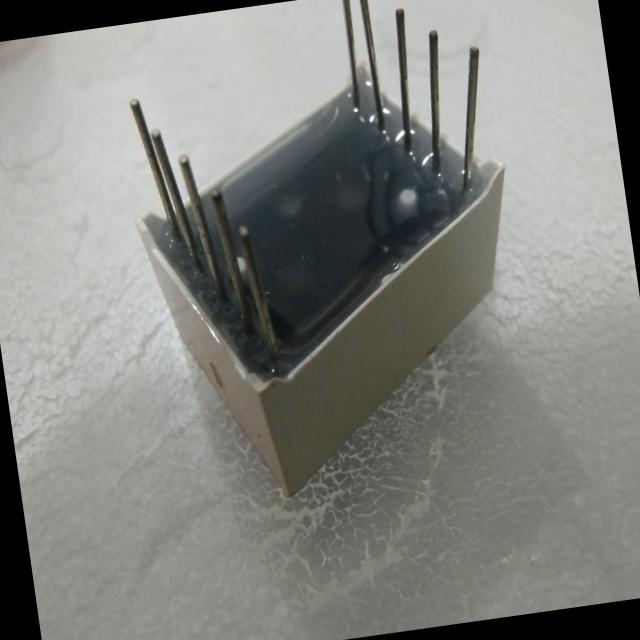7_segments: (90, 0, 559, 519)
